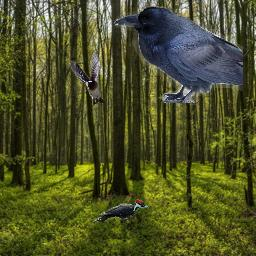Crow: (114, 6, 243, 103)
Swallow: (70, 51, 106, 105)
Woodpecker: (93, 199, 149, 222)
